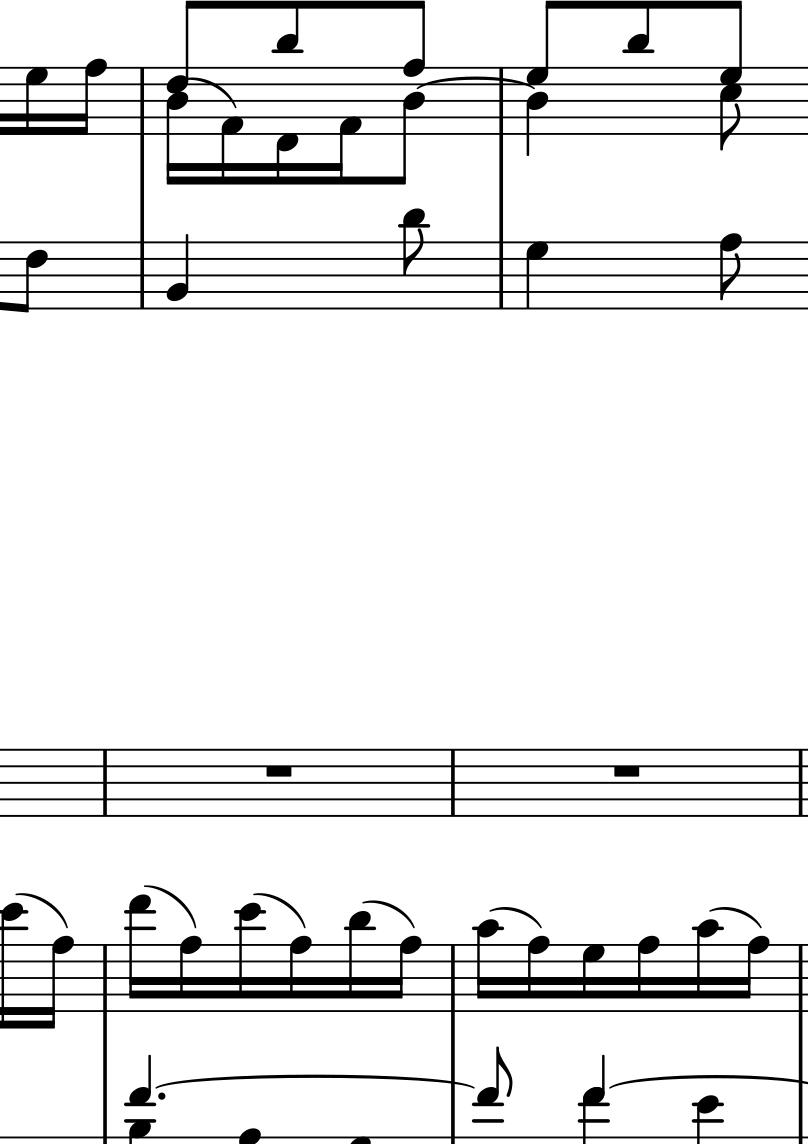16_-1: (275, 64, 301, 186)
16_1: (332, 64, 363, 184), (219, 65, 244, 186)
16_10: (473, 919, 504, 1016), (694, 919, 723, 1015)
16_11: (345, 910, 374, 1016)
16_12: (1, 903, 30, 1031), (236, 902, 266, 1015)
16_13: (125, 893, 155, 1015)
16_7: (23, 64, 50, 137), (579, 942, 605, 1015)
16_8: (40, 934, 75, 1030), (73, 58, 107, 138), (389, 934, 423, 1014), (737, 934, 770, 1013), (287, 934, 313, 1015), (177, 935, 203, 1015), (525, 935, 551, 1015), (635, 935, 661, 1014)
4_2: (165, 232, 192, 312)
4_7: (525, 240, 550, 311)
8_11: (622, 1, 655, 138), (398, 206, 431, 313)
8_6: (17, 240, 48, 315)
8_8: (717, 232, 744, 312)
Rests1: (261, 761, 297, 781), (609, 761, 645, 781)
Single_barline: (493, 68, 514, 135), (443, 945, 464, 1012), (96, 945, 116, 1013), (493, 241, 512, 309), (134, 68, 152, 134), (133, 242, 151, 308), (97, 750, 115, 816), (444, 750, 462, 816), (791, 750, 808, 817), (791, 945, 808, 1012)
Slur: (145, 881, 197, 931), (254, 888, 309, 933), (411, 77, 534, 93), (364, 897, 417, 931), (187, 77, 235, 108), (493, 905, 540, 928), (713, 906, 760, 928)
dot: (154, 1088, 168, 1103)
